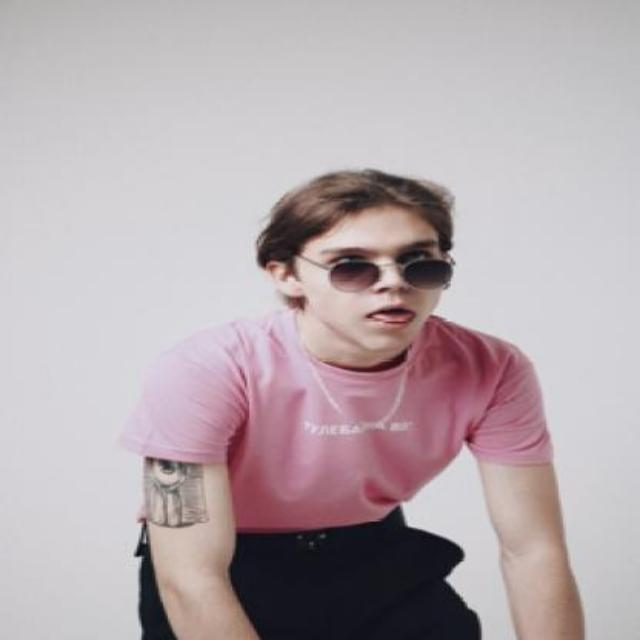sunglasses: (285, 249, 455, 289)
